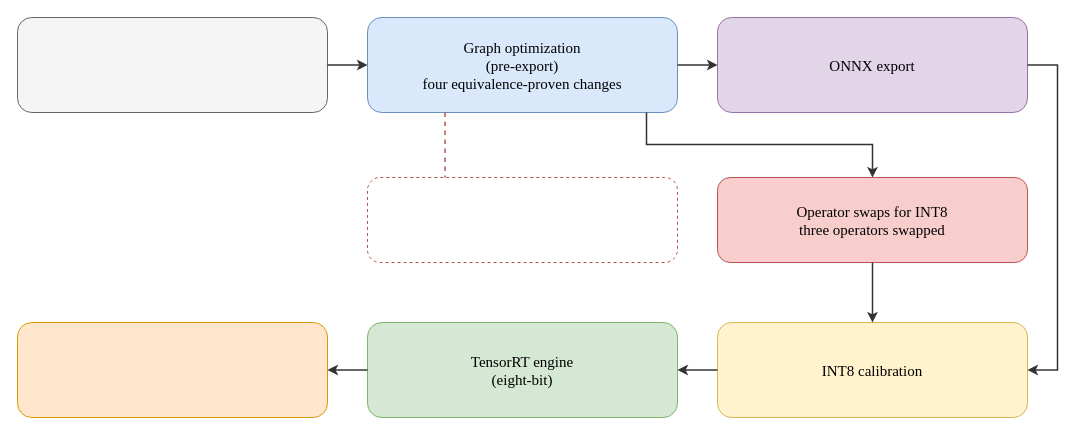
Image size: 1084x435. Some labels were removed from this diagram. The centre of each missing label's shape, as x and y in pixels:
"1.74x latency reduction before quantization" belongs at (522,219).
"Jetson Orin Nano measured on device" belongs at (172,370).
"Trained PyTorch checkpoint (fp32)" belongs at (172,64).
